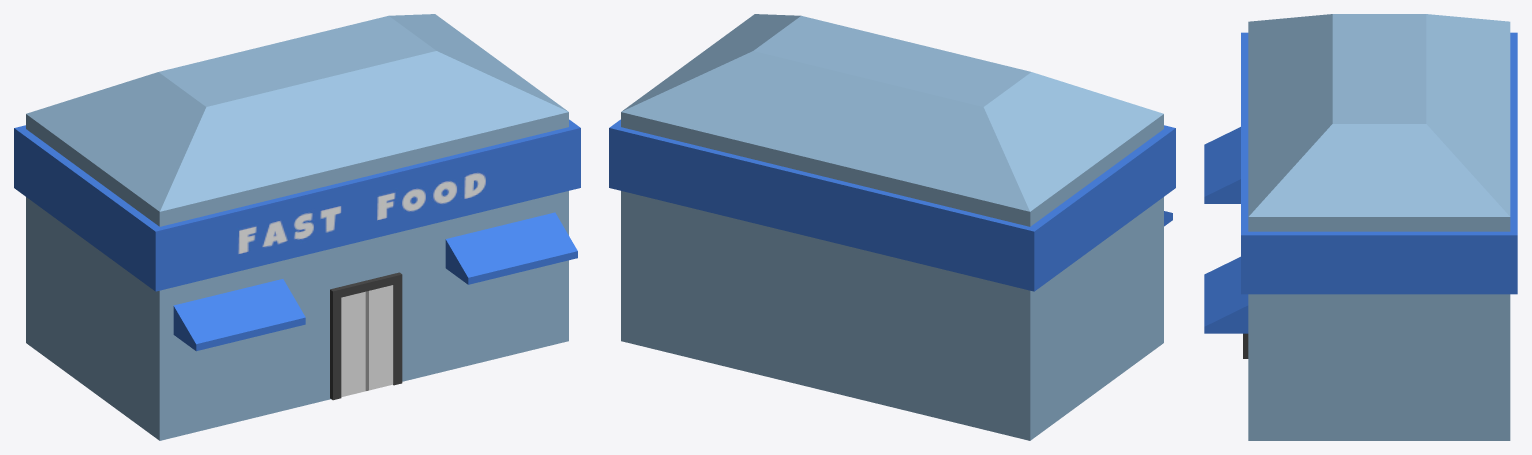
The model's file is Fast_food_shop.FBX.
3 renders of one model, left to right at view 1: azimuth 30°, elevation 25°; view 2: azimuth 150°, elevation 25°; view 3: azimuth 270°, elevation 25°, orthographic. The views are drawn at different scales.
Parts seen in each view (by area): view 1: Fast food shop; view 2: Fast food shop; view 3: Fast food shop.
Boxes of the visible parts, bbox=[...] form: Fast food shop: bbox=[14, 14, 580, 440]; Fast food shop: bbox=[609, 14, 1175, 440]; Fast food shop: bbox=[1204, 14, 1517, 440].
Bounding box in the file's own units: 9.1 × 5.74 × 5.94.
1 material, 1 textured.
